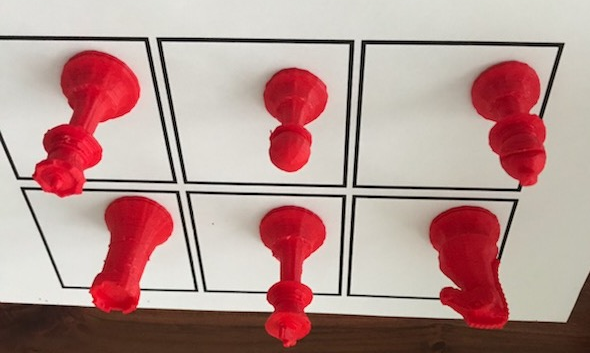Red Bishop: (461, 55, 560, 192)
Red Castle: (88, 193, 175, 324)
Red King: (242, 200, 326, 353)
Red Knight: (418, 200, 522, 340)
Red Pawn: (253, 60, 333, 177)
Red Queen: (28, 46, 145, 201)
